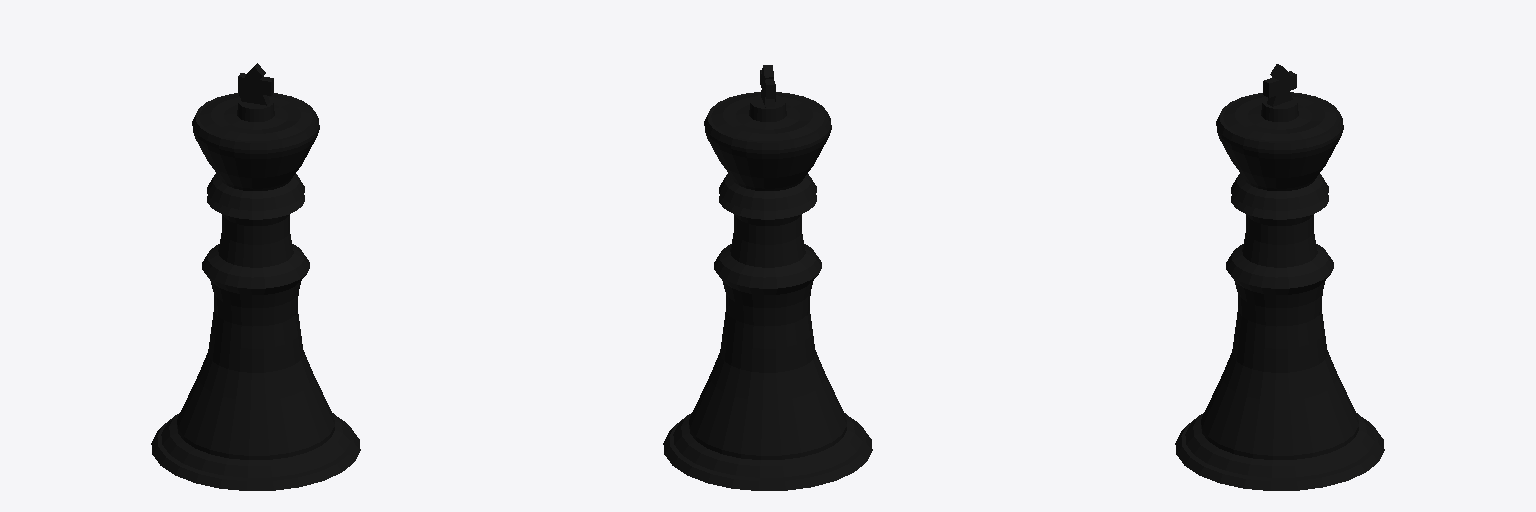
3 renders of one model, left to right at view 1: azimuth 30°, elevation 25°; view 2: azimuth 150°, elevation 25°; view 3: azimuth 270°, elevation 25°, orthographic.
Visible parts, largest first — view 1: Mesh1 Chess_king1 Model, Mesh2 Chess_king1 Model; view 2: Mesh1 Chess_king1 Model, Mesh2 Chess_king1 Model; view 3: Mesh1 Chess_king1 Model, Mesh2 Chess_king1 Model.
Boxes of the visible parts, box(x1,y1,x2,y2) form: Mesh1 Chess_king1 Model: box(151, 93, 360, 490); Mesh2 Chess_king1 Model: box(238, 63, 273, 105); Mesh1 Chess_king1 Model: box(663, 92, 872, 490); Mesh2 Chess_king1 Model: box(760, 65, 775, 107); Mesh1 Chess_king1 Model: box(1175, 92, 1384, 490); Mesh2 Chess_king1 Model: box(1263, 64, 1296, 106).
Size of the model in its own units: 85.48 by 172 by 85.48.